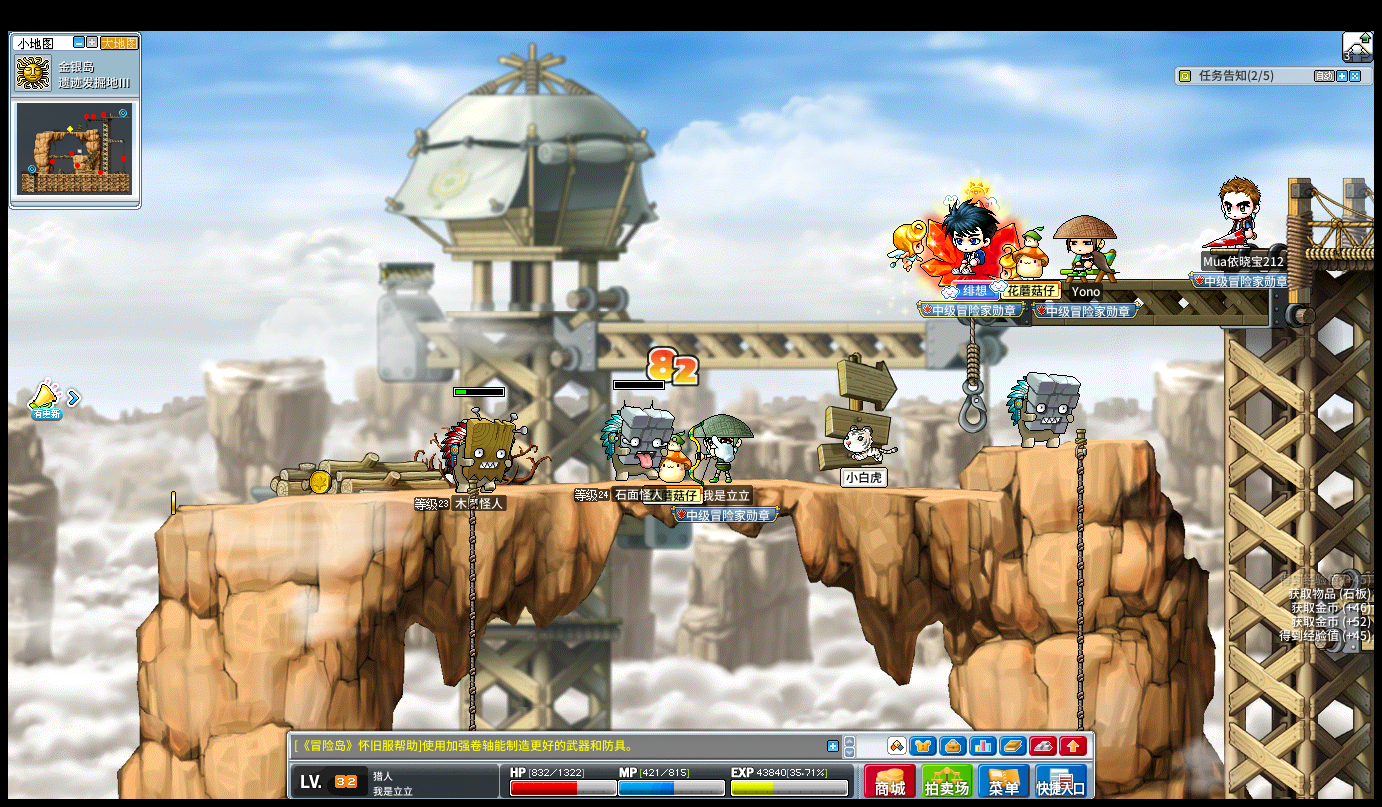floor: (160, 475, 1063, 501), (172, 475, 1050, 494), (985, 434, 1152, 451)
monster: (441, 409, 522, 490), (1004, 370, 1082, 448), (599, 405, 673, 480)
rope: (1072, 429, 1087, 741), (462, 480, 477, 691), (465, 477, 478, 682)
